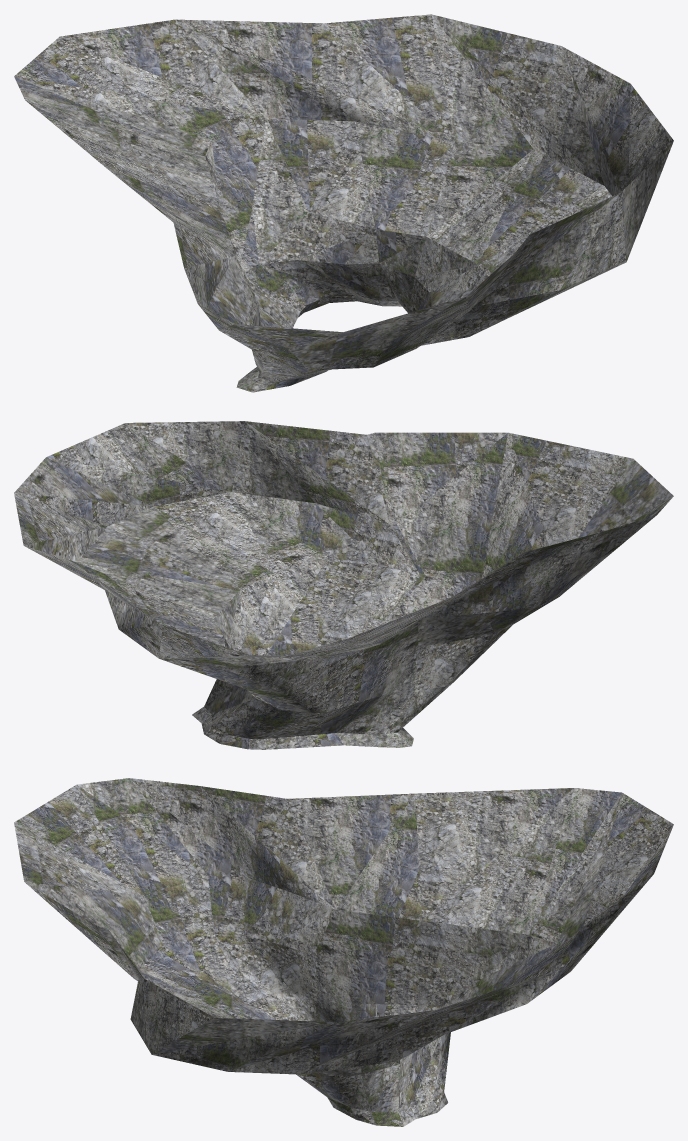
Rendered from Cavern.dae.
3 renders of one model, top to bottom at view 1: azimuth 30°, elevation 25°; view 2: azimuth 150°, elevation 25°; view 3: azimuth 270°, elevation 25°, orthographic. The views are drawn at different scales.
Visible parts, largest first — view 1: SketchUp; view 2: SketchUp; view 3: SketchUp.
Boxes of the visible parts, x1,y1,x2,y2 form: SketchUp: [14, 14, 673, 392]; SketchUp: [14, 421, 673, 749]; SketchUp: [14, 778, 673, 1126].
Size of the model in its own units: 679 by 749 by 269.
1 material, 1 textured.
